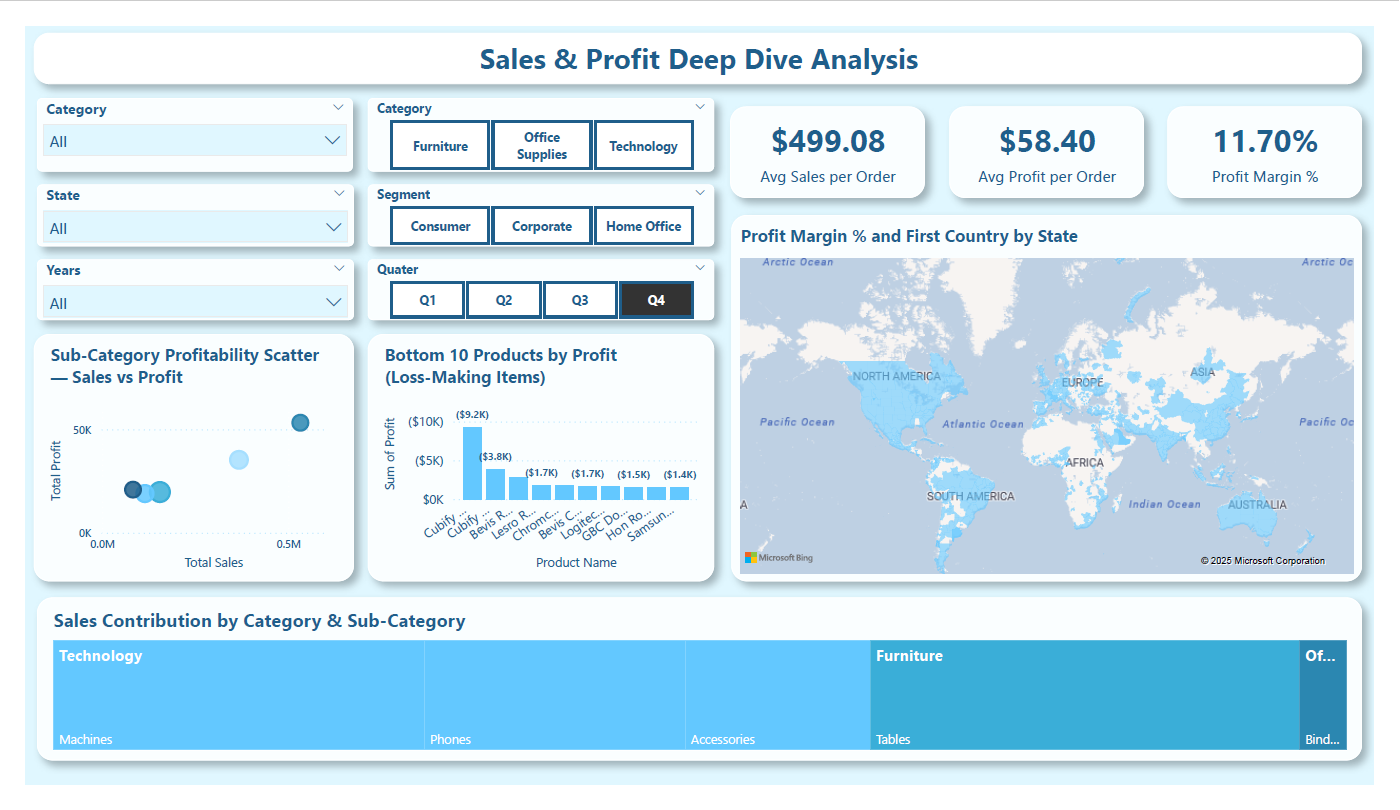

This screenshot's page, from the dashboard's own definition file:
{"tool":"powerbi","page":{"name":"Deep Dive Analysis","canvas":[1280,720],"ordinal":1},"visuals":[{"type":"card","fields":{"Values":["Orders.Avg Sales per Order"]},"box":[669,75.8,184.9,87.3],"z":0},{"type":"scatterChart","title":"Sub-Category Profitability Scatter — Sales vs Profit","fields":{"X":["Orders.Total Sales"],"Y":["Orders.Total Profit"],"Size":["Orders.Total Quantity"],"Series":["Orders.Sub-Category"]},"box":[8.4,292,304,235.3],"z":1000},{"type":"textbox","title":"Sales & Profit Deep Dive Analysis","box":[8,6,1260.7,49.5],"z":2000},{"type":"slicer","fields":{"Values":["DateTable.Quater"]},"box":[324.5,221,329.4,57.9],"z":3000},{"type":"slicer","fields":{"Values":["Orders.Category"]},"box":[324.5,67.6,329.4,70],"z":4000},{"type":"slicer","fields":{"Values":["Orders.Category"]},"box":[10.9,67.6,300.4,70],"z":5000},{"type":"slicer","fields":{"Values":["Orders.State"]},"box":[10.9,149.6,301.6,59.1],"z":6000},{"type":"slicer","fields":{"Values":["Orders.Segment"]},"box":[324.5,149.6,329.4,59.1],"z":7000},{"type":"slicer","fields":{"Values":["DateTable.Years"]},"box":[10.9,220.8,301.6,57.9],"z":8000},{"type":"card","fields":{"Values":["Orders.Avg Profit per Order"]},"box":[877,75.8,184.9,87.3],"z":9000},{"type":"card","fields":{"Values":["Orders.Profit Margin %"]},"box":[1083.8,75.8,184.9,87.3],"z":10000},{"type":"clusteredColumnChart","title":"Bottom 10 Products by Profit (Loss-Making Items)","fields":{"Y":["Sum(Orders.Profit)"],"Category":["Orders.Product Name"]},"box":[324.5,292,329.4,235.3],"z":11000},{"type":"filledMap","fields":{"Category":["Orders.State"]},"box":[669.6,178.6,599.6,348.7],"z":12000},{"type":"treemap","title":"Sales Contribution by Category & Sub-Category","fields":{"Group":["Orders.Category"],"Details":["Orders.Sub-Category"],"Values":["Orders.Total Sales"]},"box":[10.9,541.7,1258.3,155.6],"z":13000}]}

Visuals, with their boxes in screenshot pixels (x1, y1, x2, y2), scaled from the page's 1280x720 canvas onto the 1400x810 screenshot:
card - Orders.Avg Sales per Order: [732,85,934,183]
"Sub-Category Profitability Scatter — Sales vs Profit" scatterChart: [9,328,342,593]
"Sales & Profit Deep Dive Analysis" textbox: [9,7,1388,62]
slicer - DateTable.Quater: [355,249,715,314]
slicer - Orders.Category: [355,76,715,155]
slicer - Orders.Category: [12,76,340,155]
slicer - Orders.State: [12,168,342,235]
slicer - Orders.Segment: [355,168,715,235]
slicer - DateTable.Years: [12,248,342,314]
card - Orders.Avg Profit per Order: [959,85,1161,183]
card - Orders.Profit Margin %: [1185,85,1388,183]
"Bottom 10 Products by Profit (Loss-Making Items)" clusteredColumnChart: [355,328,715,593]
filledMap - Orders.State: [732,201,1388,593]
"Sales Contribution by Category & Sub-Category" treemap: [12,609,1388,784]
